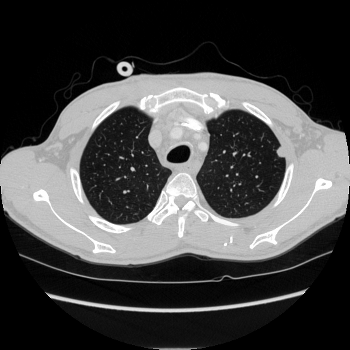nodule: (277, 148, 285, 156)
